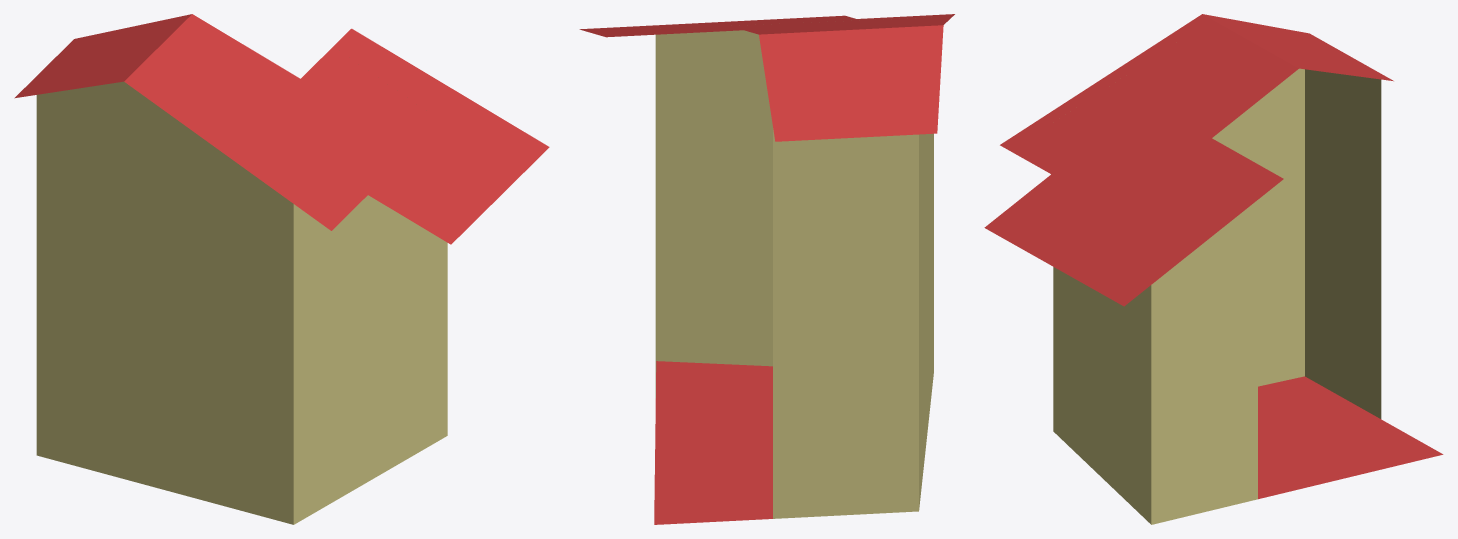
The picture shows the model from 3 angles, left to right: view 1: azimuth 30°, elevation 25°; view 2: azimuth 150°, elevation 25°; view 3: azimuth 270°, elevation 25°; orthographic projection. The views are drawn at different scales.
Bounding box in the file's own units: 14.15 × 13.94 × 12.62.
